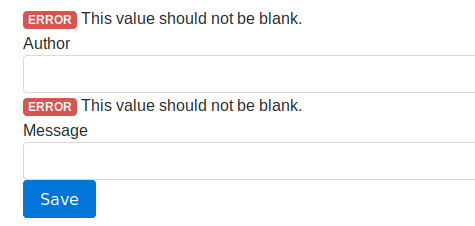error_message: (27, 100, 74, 114), (25, 13, 74, 26)
